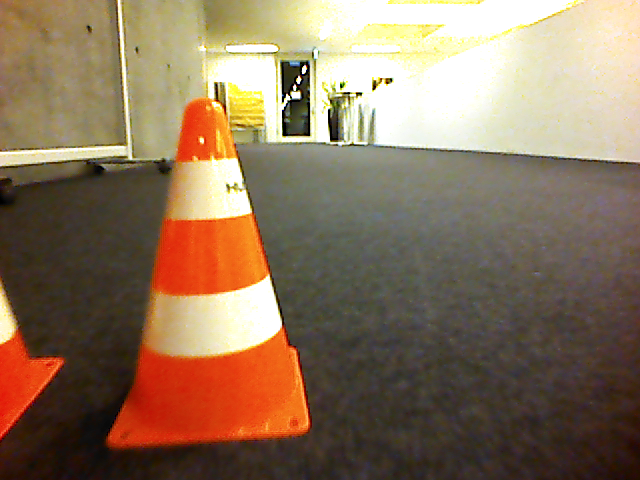orangeconesmall: (105, 96, 315, 450)
